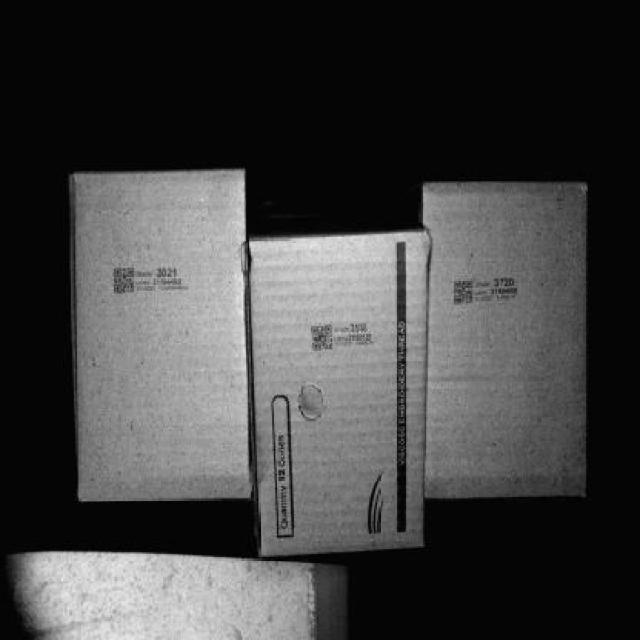box: (74, 169, 253, 494), (249, 240, 434, 543), (426, 178, 592, 500)
